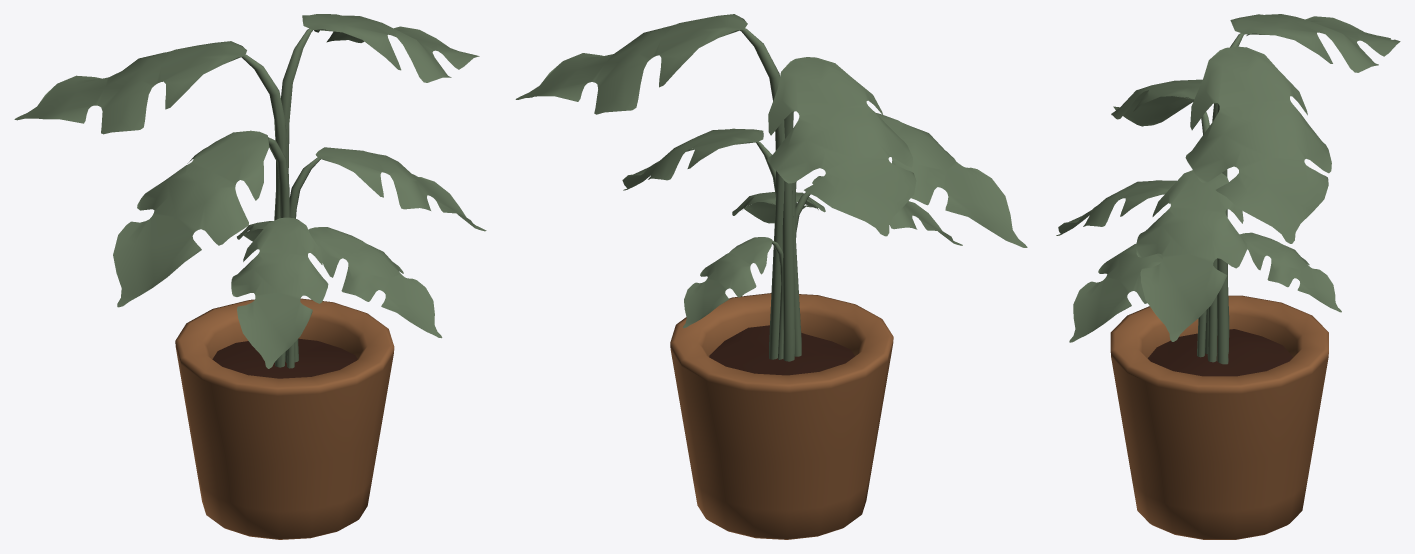
The model's file is Planta1.fbx.
3 renders of one model, left to right at view 1: azimuth 30°, elevation 25°; view 2: azimuth 150°, elevation 25°; view 3: azimuth 270°, elevation 25°, orthographic. The views are drawn at different scales.
Parts seen in each view (by area): view 1: Tiesto, Hoja 1.001, Hoja 1, Hoja 1.002, Hoja 1.003, Hoja 1.005, Hoja 1.004, Tierra; view 2: Tiesto, Hoja 1, Hoja 1.005, Hoja 1.001, Hoja 1.006, Tierra, Hoja 1.004, Hoja 1.002, Hoja 1.003; view 3: Tiesto, Hoja 1.005, Hoja 1.004, Hoja 1, Tierra, Hoja 1.003, Hoja 1.006, Hoja 1.001, Hoja 1.002.
Boxes of the visible parts, <box> form: Tiesto: <box>175,298,394,539</box>; Hoja 1.001: <box>113,130,289,367</box>; Hoja 1: <box>14,41,286,362</box>; Hoja 1.002: <box>231,217,328,368</box>; Hoja 1.003: <box>285,227,442,363</box>; Hoja 1.005: <box>281,14,479,358</box>; Hoja 1.004: <box>289,147,486,362</box>; Tierra: <box>212,338,357,378</box>; Tiesto: <box>670,293,893,539</box>; Hoja 1: <box>767,57,916,361</box>; Hoja 1.005: <box>515,14,784,359</box>; Hoja 1.001: <box>792,113,1027,356</box>; Hoja 1.006: <box>683,237,783,359</box>; Tierra: <box>709,325,854,375</box>; Hoja 1.004: <box>622,128,775,196</box>; Hoja 1.002: <box>795,176,962,245</box>; Hoja 1.003: <box>732,192,825,223</box>; Tiesto: <box>1110,295,1328,539</box>; Hoja 1.005: <box>1185,46,1331,364</box>; Hoja 1.004: <box>1136,170,1247,362</box>; Hoja 1: <box>1212,14,1400,353</box>; Tierra: <box>1148,329,1292,376</box>; Hoja 1.003: <box>1069,243,1208,357</box>; Hoja 1.006: <box>1239,232,1341,312</box>; Hoja 1.001: <box>1111,79,1209,354</box>; Hoja 1.002: <box>1056,180,1206,357</box>.
Size of the model in its own units: 437 by 458 by 299.
